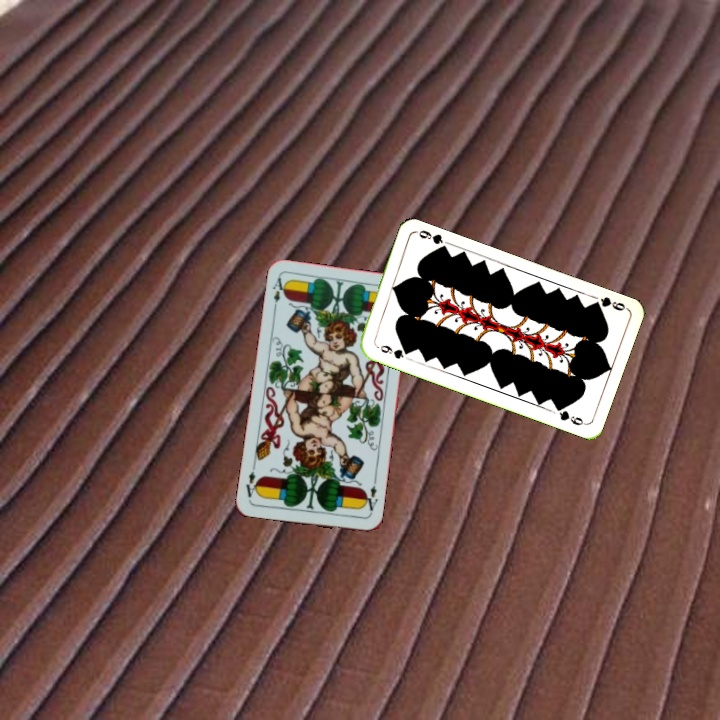EA: (359, 477, 381, 517), (268, 274, 289, 313)
G9: (372, 341, 412, 362), (588, 293, 629, 313)
